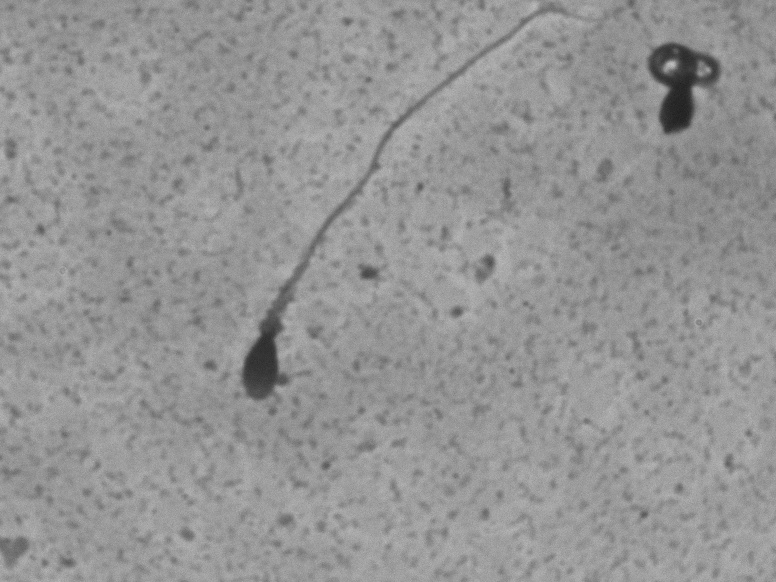Abnormal: (189, 41, 428, 416)
